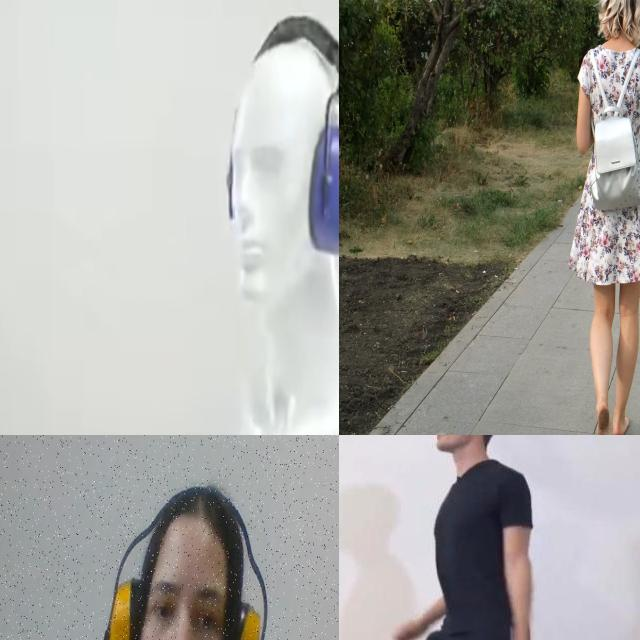Barefoots: (596, 402, 615, 435), (612, 414, 629, 435)
Ear-protection: (213, 18, 339, 329), (97, 568, 145, 640), (217, 583, 271, 640)
face_nomask: (418, 435, 464, 449)
hand_noglove: (393, 600, 431, 640), (504, 625, 548, 640)
person: (385, 435, 542, 640)
